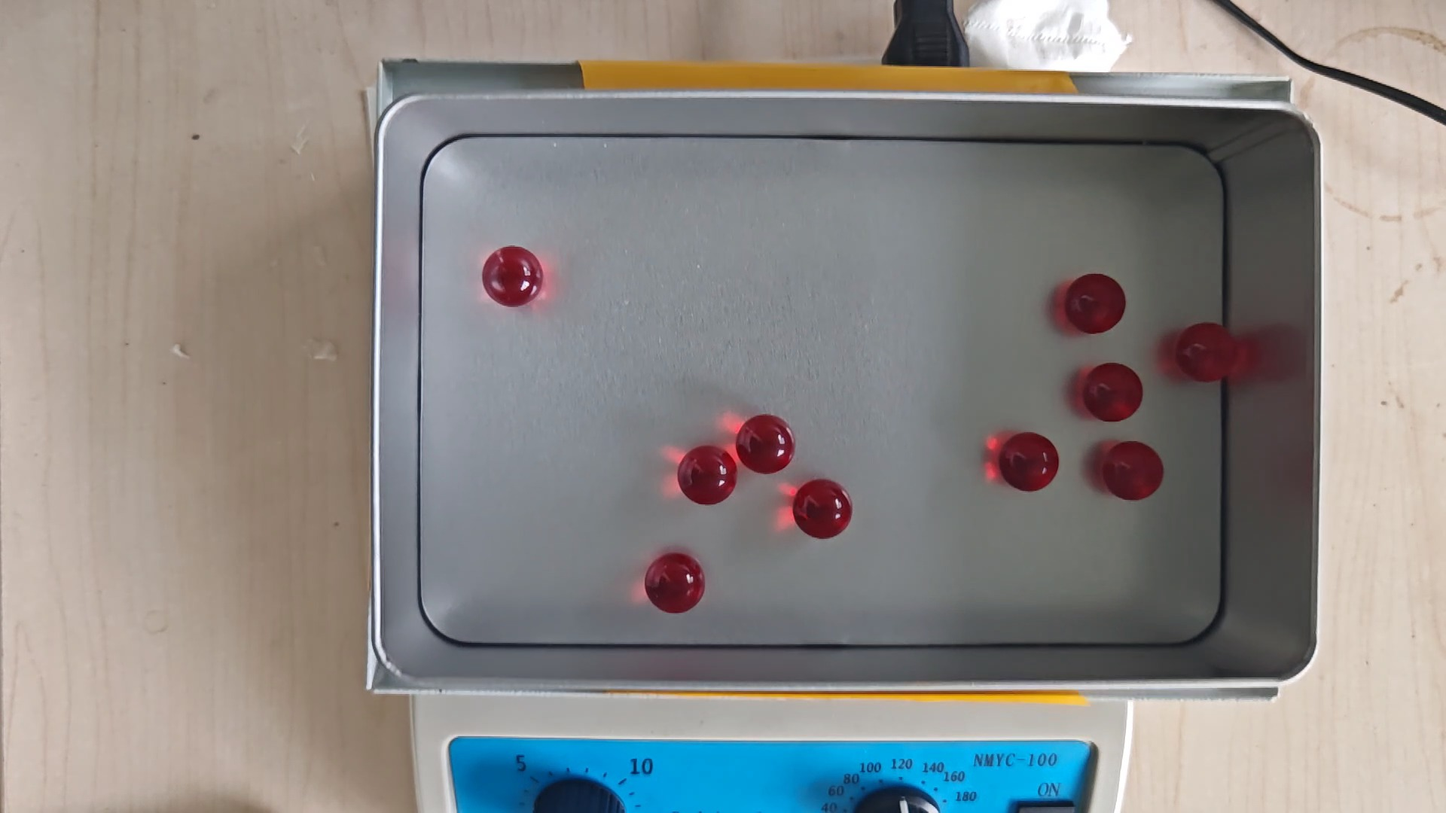ball: (481, 244, 543, 308), (1103, 439, 1164, 502), (1175, 322, 1237, 383), (1065, 272, 1126, 334), (645, 552, 705, 614), (999, 431, 1060, 491), (679, 445, 738, 506), (1084, 362, 1143, 423), (794, 478, 851, 540), (737, 414, 795, 474)
container: (419, 138, 1224, 646)
